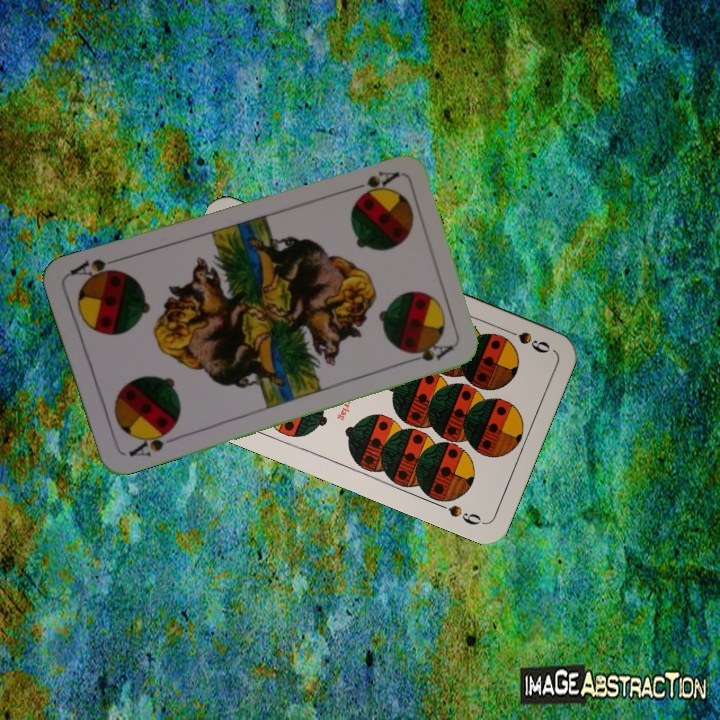S9: (497, 323, 553, 356)
SA: (124, 424, 179, 460), (343, 167, 401, 200)
